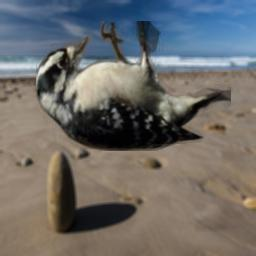Woodpecker: (36, 21, 231, 151)
